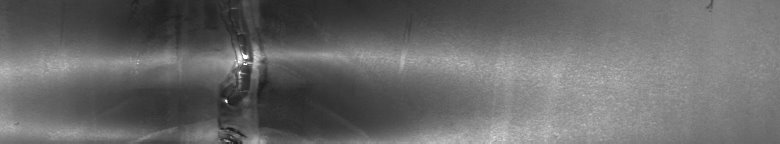ke: (112, 4, 416, 136)
